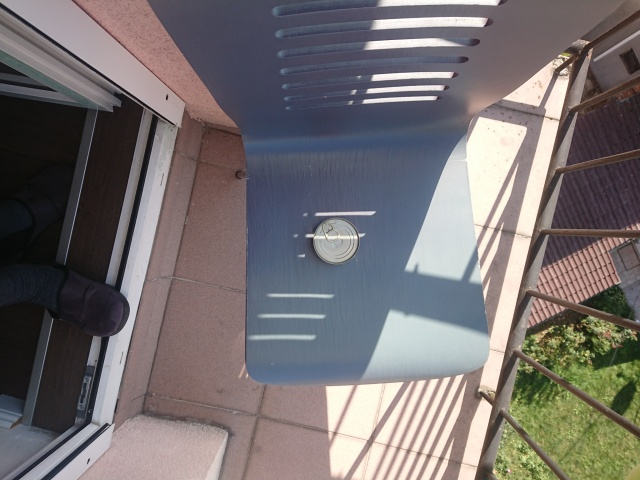Gavrilovic Pork Liver Pate 100g: (310, 215, 360, 266)
